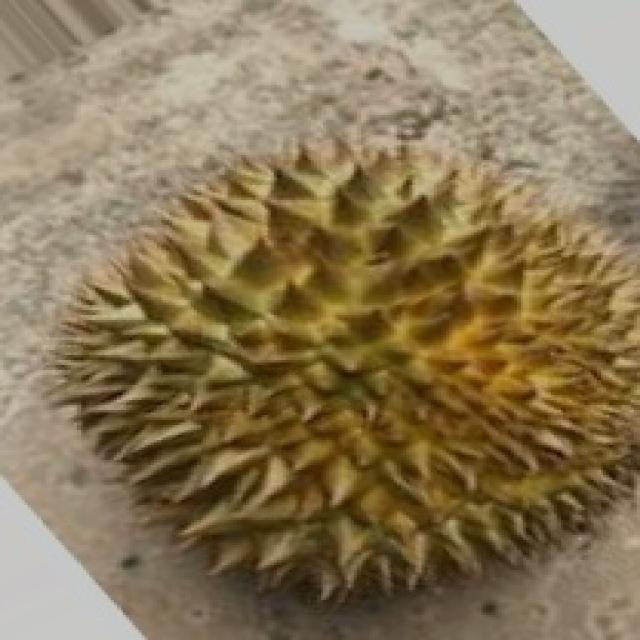fruit: (12, 255, 378, 640)
